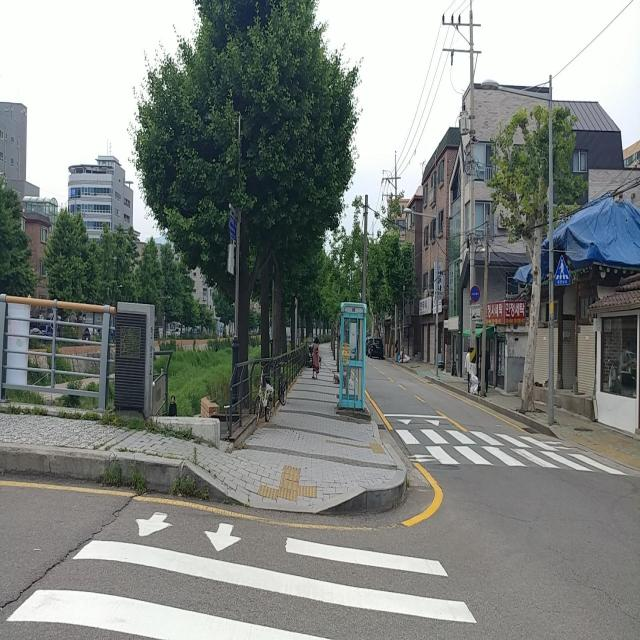횡단보도: (3, 508, 480, 640), (394, 429, 622, 474)
